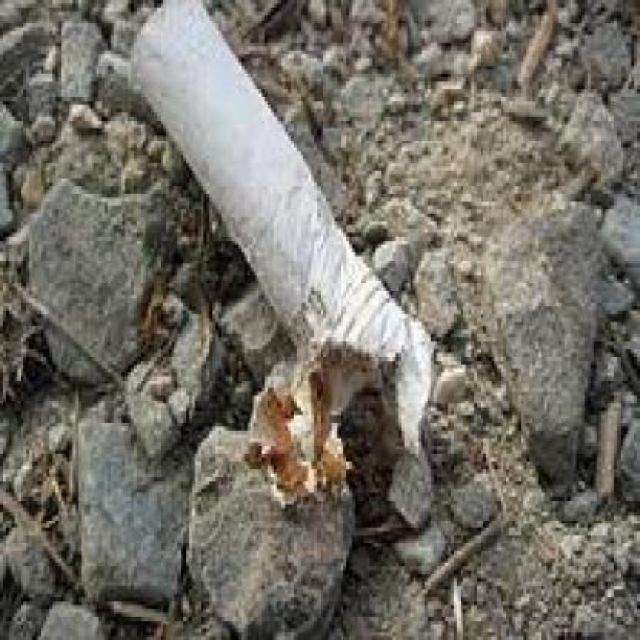cigarette: (122, 15, 446, 403)
